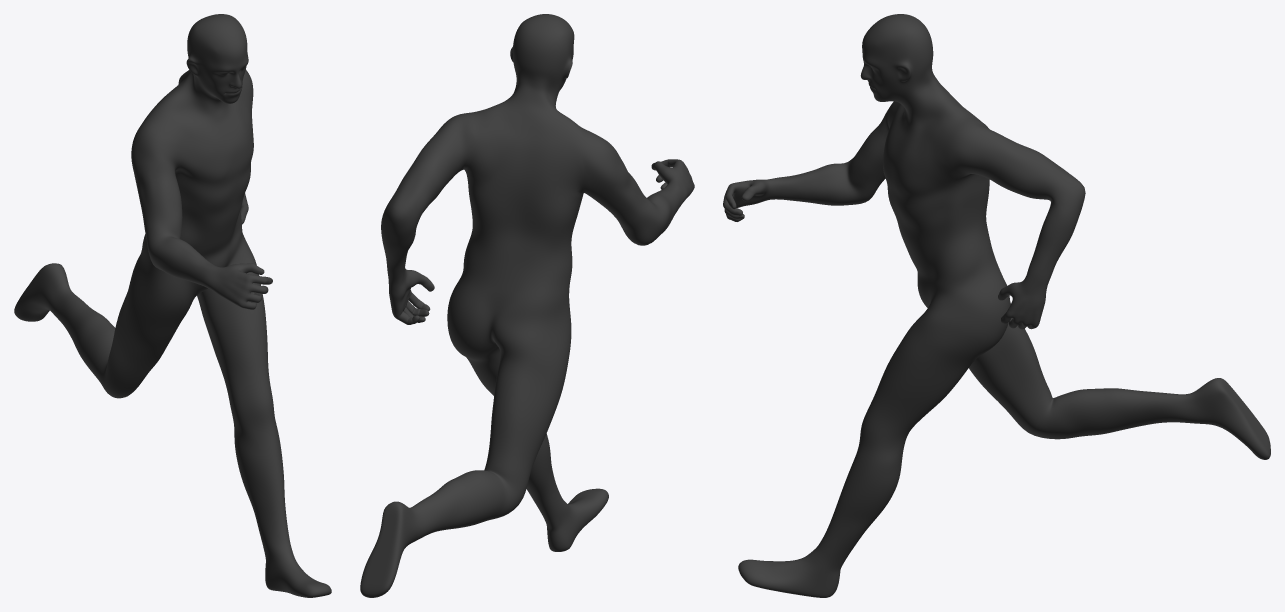
The picture shows the model from 3 angles, left to right: view 1: azimuth 30°, elevation 25°; view 2: azimuth 150°, elevation 25°; view 3: azimuth 270°, elevation 25°; orthographic projection. The views are drawn at different scales.
Visible parts, largest first — view 1: 11083_Man_Running_v2.obj; view 2: 11083_Man_Running_v2.obj; view 3: 11083_Man_Running_v2.obj.
Part boxes in pixels (<box>): 11083_Man_Running_v2.obj: <box>14,14,331,597</box>; 11083_Man_Running_v2.obj: <box>360,14,694,597</box>; 11083_Man_Running_v2.obj: <box>723,14,1270,597</box>.
Size of the model in its own units: 60.83 by 181 by 159.
Materials: 1 (1 with a texture image).
